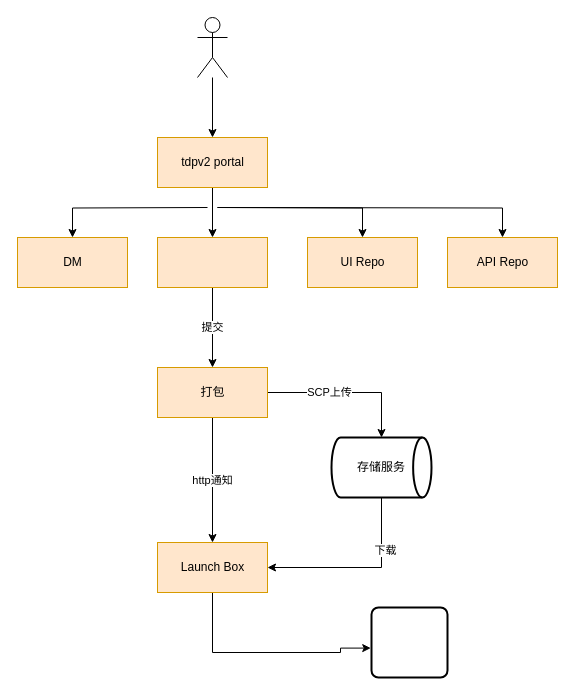
The diagram is 575 pixels wide and 696 high, and some of its shapes have lost their labels. Here are the shapes that lost their labels. From the top down, the centre of each, then its label:
point (212, 47): Developer
point (212, 262): UI Designer
point (409, 642): Harbor
